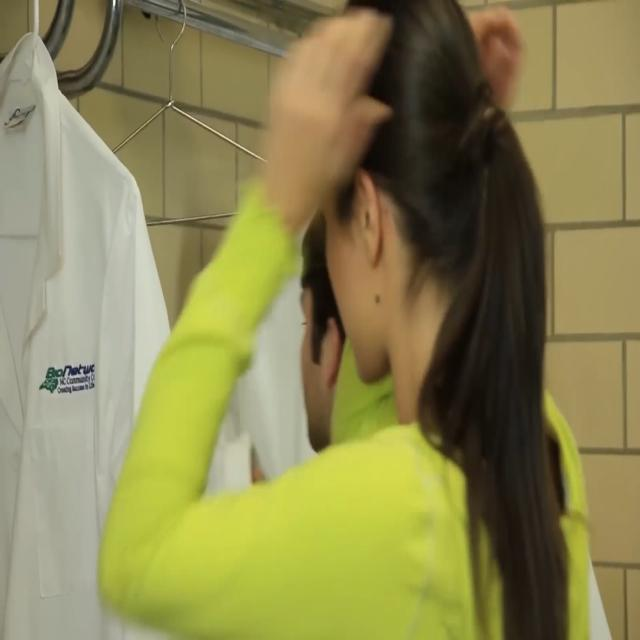dress: (90, 164, 598, 640)
labcoat: (0, 0, 202, 640)
